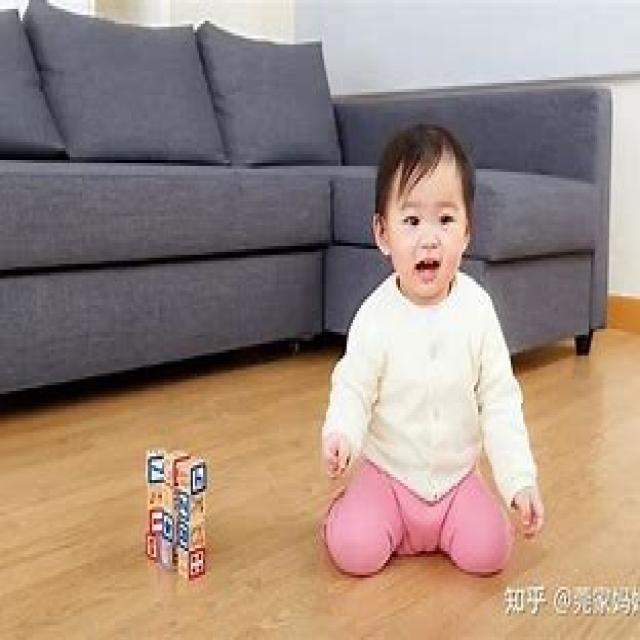sit: (328, 140, 542, 600)
